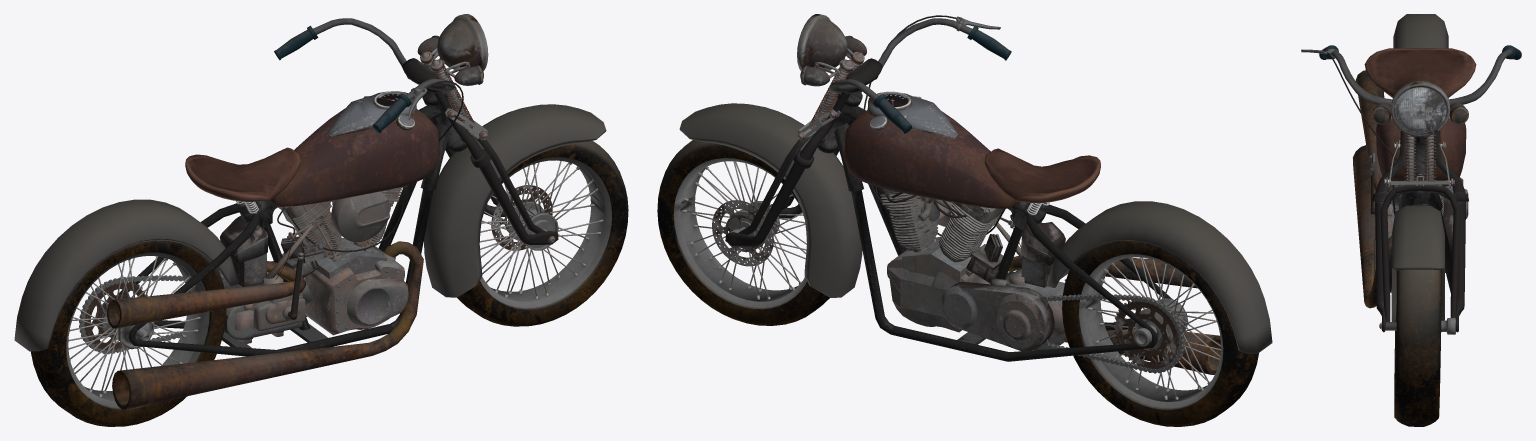
Rendered from motorbike.glb.
The picture shows the model from 3 angles, left to right: view 1: azimuth 30°, elevation 25°; view 2: azimuth 150°, elevation 25°; view 3: azimuth 270°, elevation 25°; orthographic projection. The views are drawn at different scales.
Visible parts, largest first — view 1: Object_9, Object_7, Object_4, Object_2, Object_8, Object_5, Object_6, Object_3; view 2: Object_9, Object_4, Object_7, Object_5, Object_8, Object_6, Object_3, Object_2; view 3: Object_9, Object_4, Object_7, Object_2, Object_8, Object_5.
Boxes of the visible parts, x1,y1,x2,y2 form: Object_9: [14, 14, 606, 356]; Object_7: [220, 18, 545, 343]; Object_4: [31, 141, 628, 426]; Object_2: [107, 241, 423, 409]; Object_8: [222, 56, 488, 348]; Object_5: [220, 161, 603, 298]; Object_6: [278, 187, 401, 261]; Object_3: [79, 275, 184, 354]; Object_9: [679, 14, 1272, 361]; Object_4: [657, 140, 1258, 426]; Object_7: [738, 18, 1065, 340]; Object_5: [682, 161, 1054, 351]; Object_8: [797, 57, 1066, 350]; Object_6: [875, 186, 1003, 262]; Object_3: [1044, 294, 1184, 373]; Object_2: [1008, 256, 1220, 374]; Object_9: [1301, 14, 1521, 332]; Object_4: [1385, 269, 1455, 426]; Object_7: [1331, 49, 1512, 322]; Object_2: [1353, 70, 1391, 308]; Object_8: [1373, 134, 1448, 292]; Object_5: [1443, 177, 1468, 255].
Size of the model in its own units: 2.32 by 1.18 by 0.7677.
Materials: 1 (1 with a texture image).
